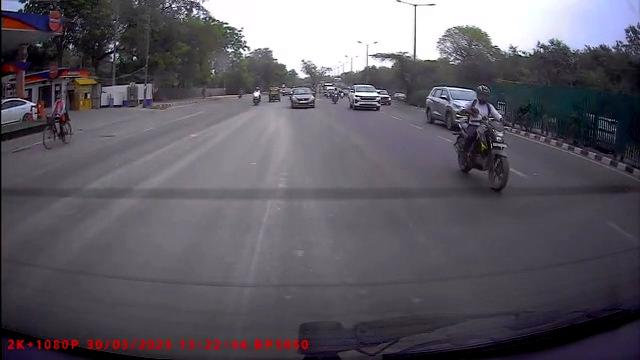motorcycle_with_helmet: (452, 83, 512, 192)
